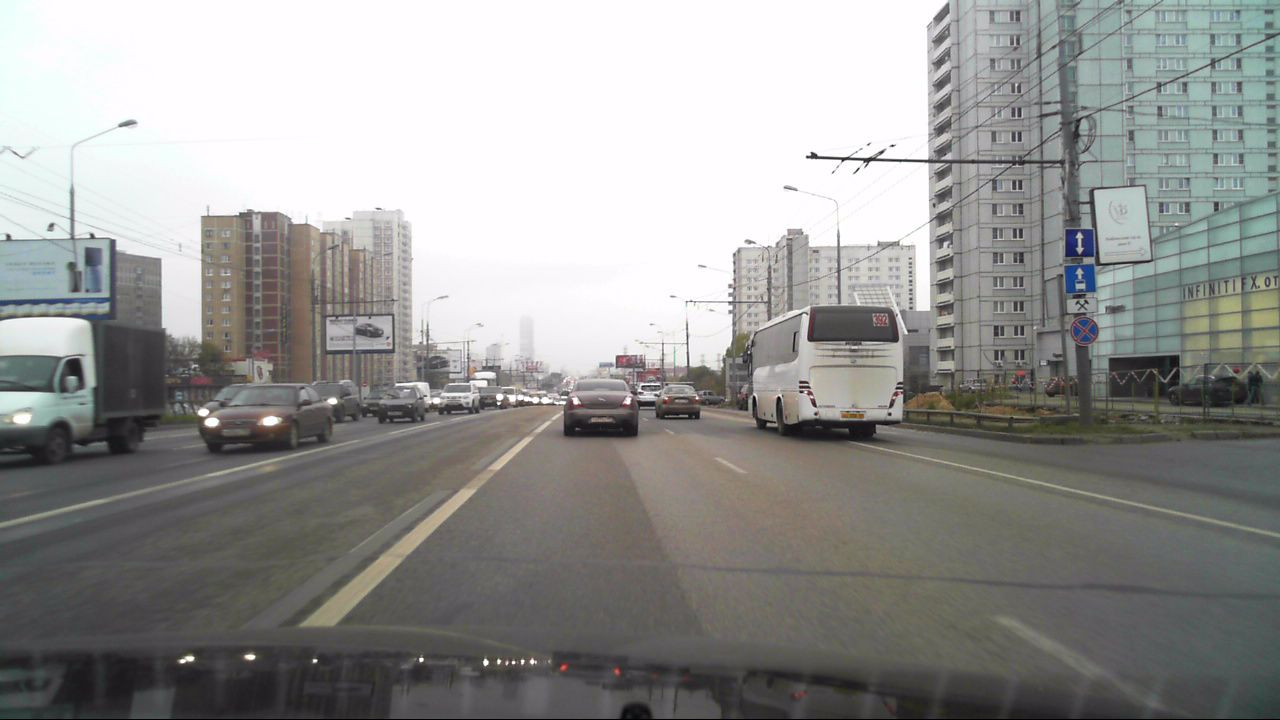No Parking: (1070, 316, 1099, 344)
